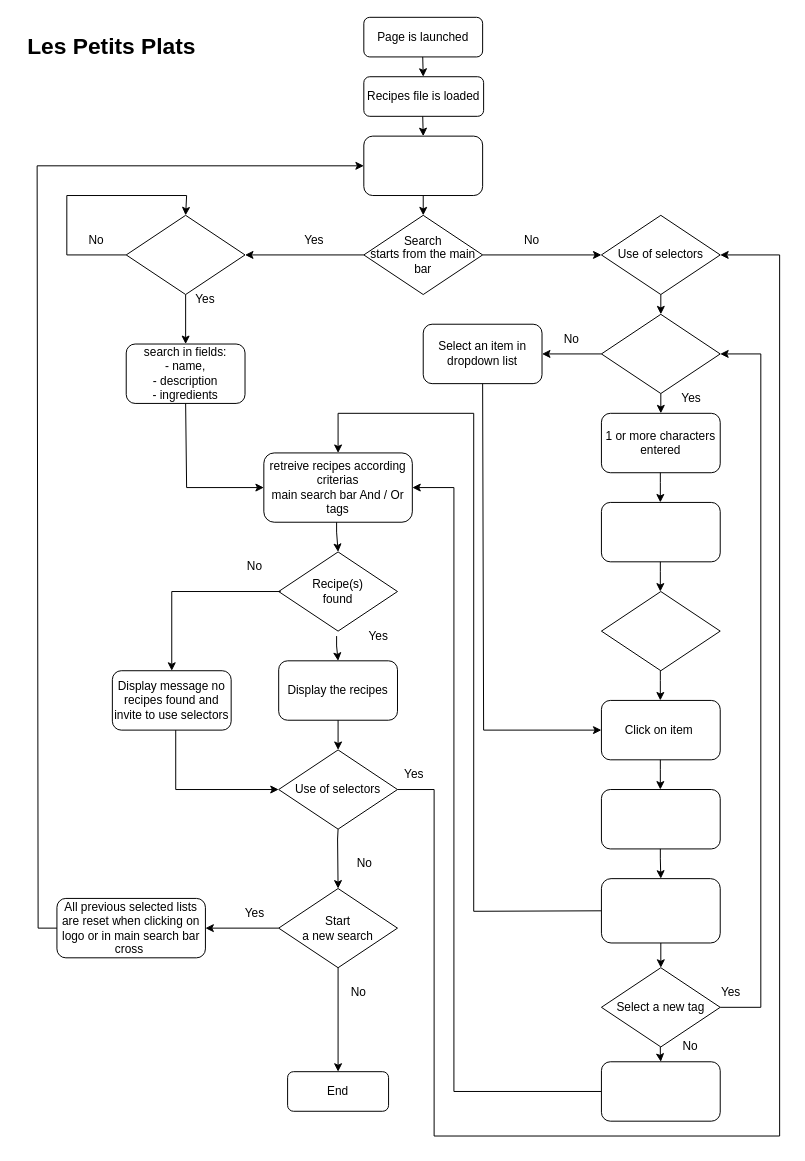
This 805x1161 diagram has some shape labels left out. Each missing label, with the centre of its shape:
"3 characters entered" goes at (x=185, y=254).
"create/display tag / flag item in list as selected" goes at (x=660, y=819).
"Dropdown list selectors are updated with corresponding items" goes at (x=423, y=165).
"Dropdown list updated with item starting with entered characters" goes at (x=660, y=531).
"Item found" goes at (x=660, y=631).
"Remove a tag and unflag item in dropdown list" goes at (x=660, y=1091).
"Search with input field" goes at (x=660, y=353).
"Update selectors with remaining item according to selected recipe(s)" goes at (x=660, y=910).
